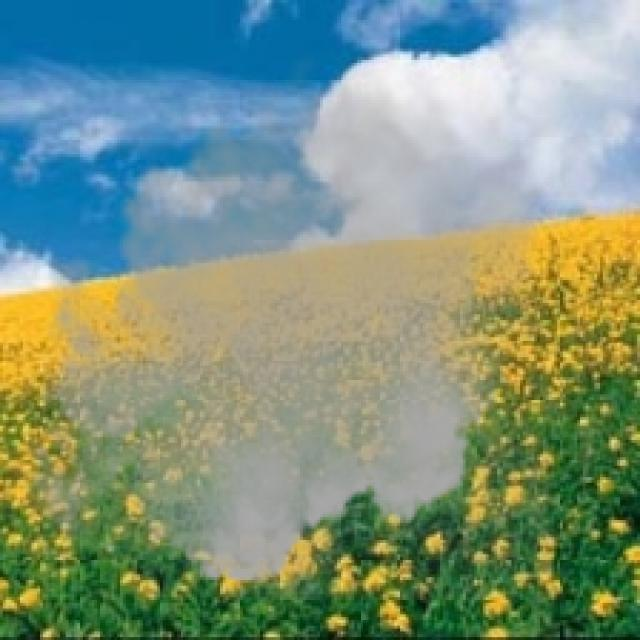Smoke: (12, 43, 554, 600)
